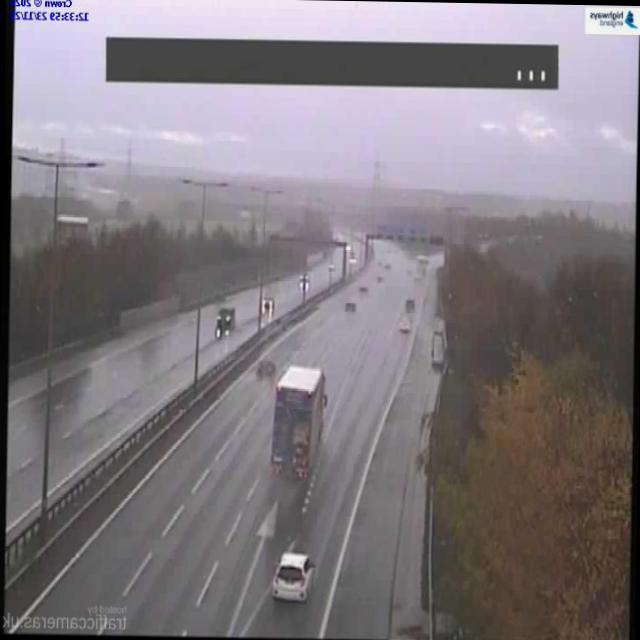foliage: (436, 234, 638, 640), (56, 216, 258, 348), (7, 225, 51, 363)
